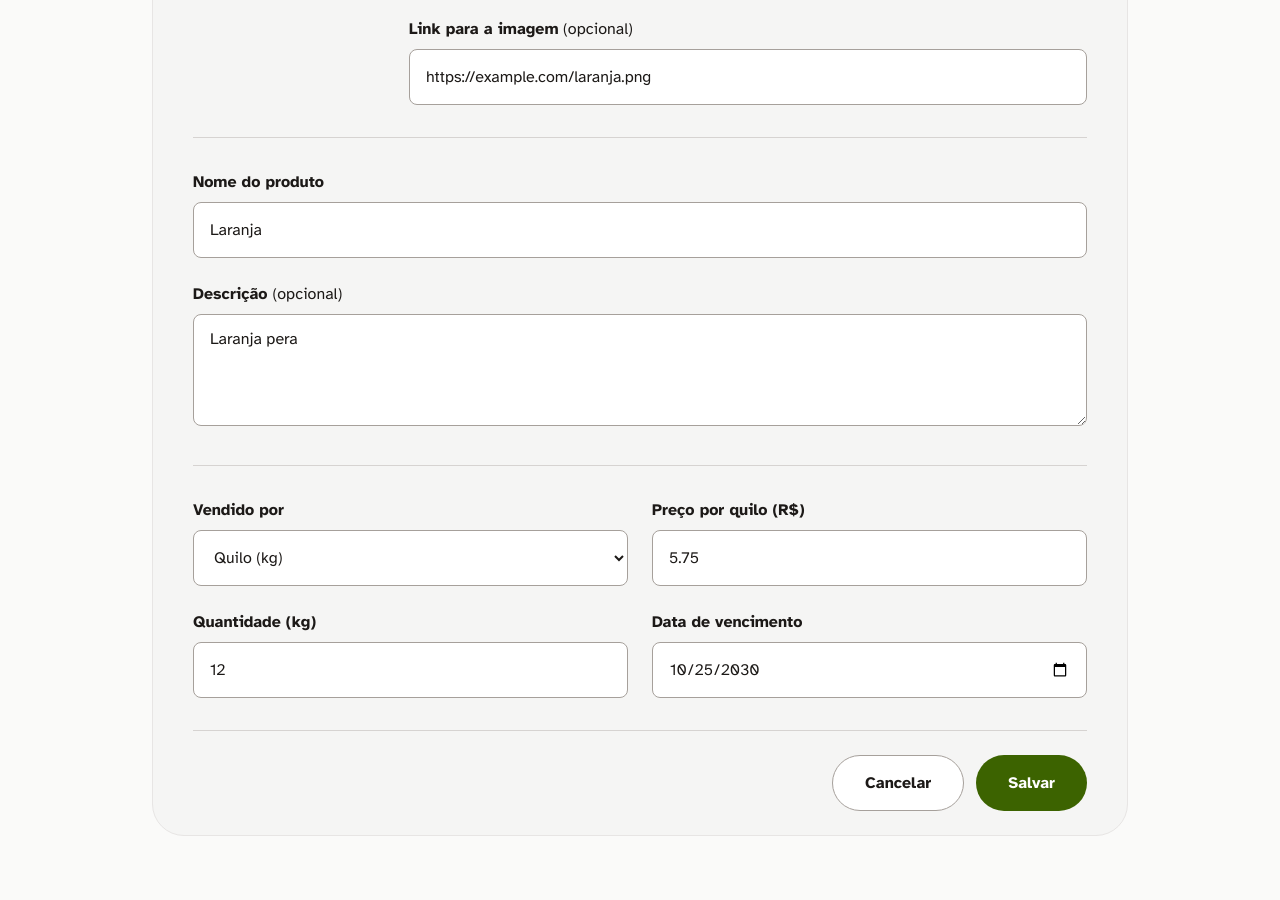
Scenario: MyProducts, saving again after the photo failed › still leaves out the stock the farmer did not touch
This screenshot has width=1280, height=900.
Earlier steps of the test are not shown.
Later steps or results of the test are not shown.
(page scrolled)
Click the button "Salvar" at coordinates (1032, 783), box x1=976 y1=755 x2=1087 y2=811
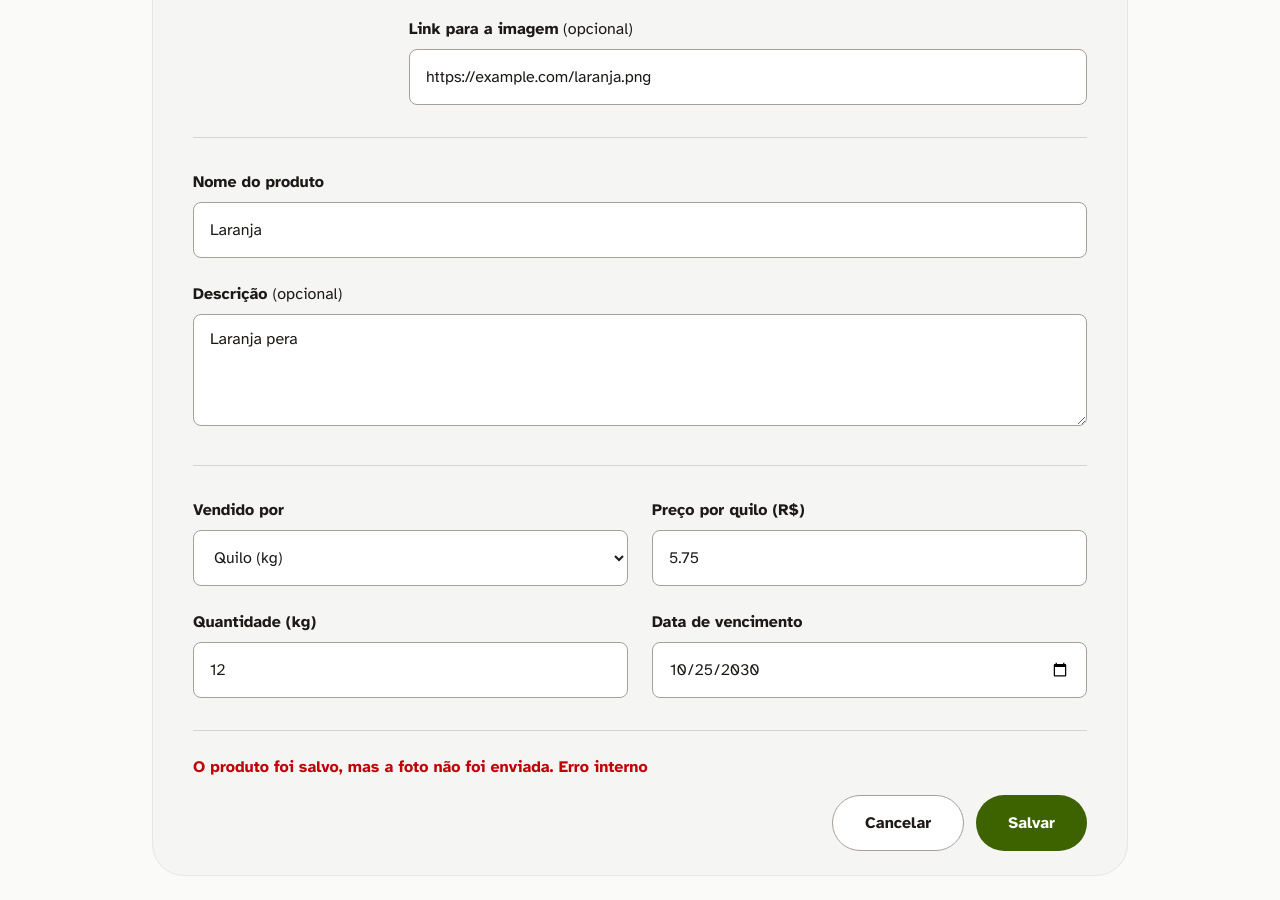
Check: the message "O produto foi salvo, mas a foto não foi enviada. Erro interno" is shown, box x1=193 y1=757 x2=648 y2=777
